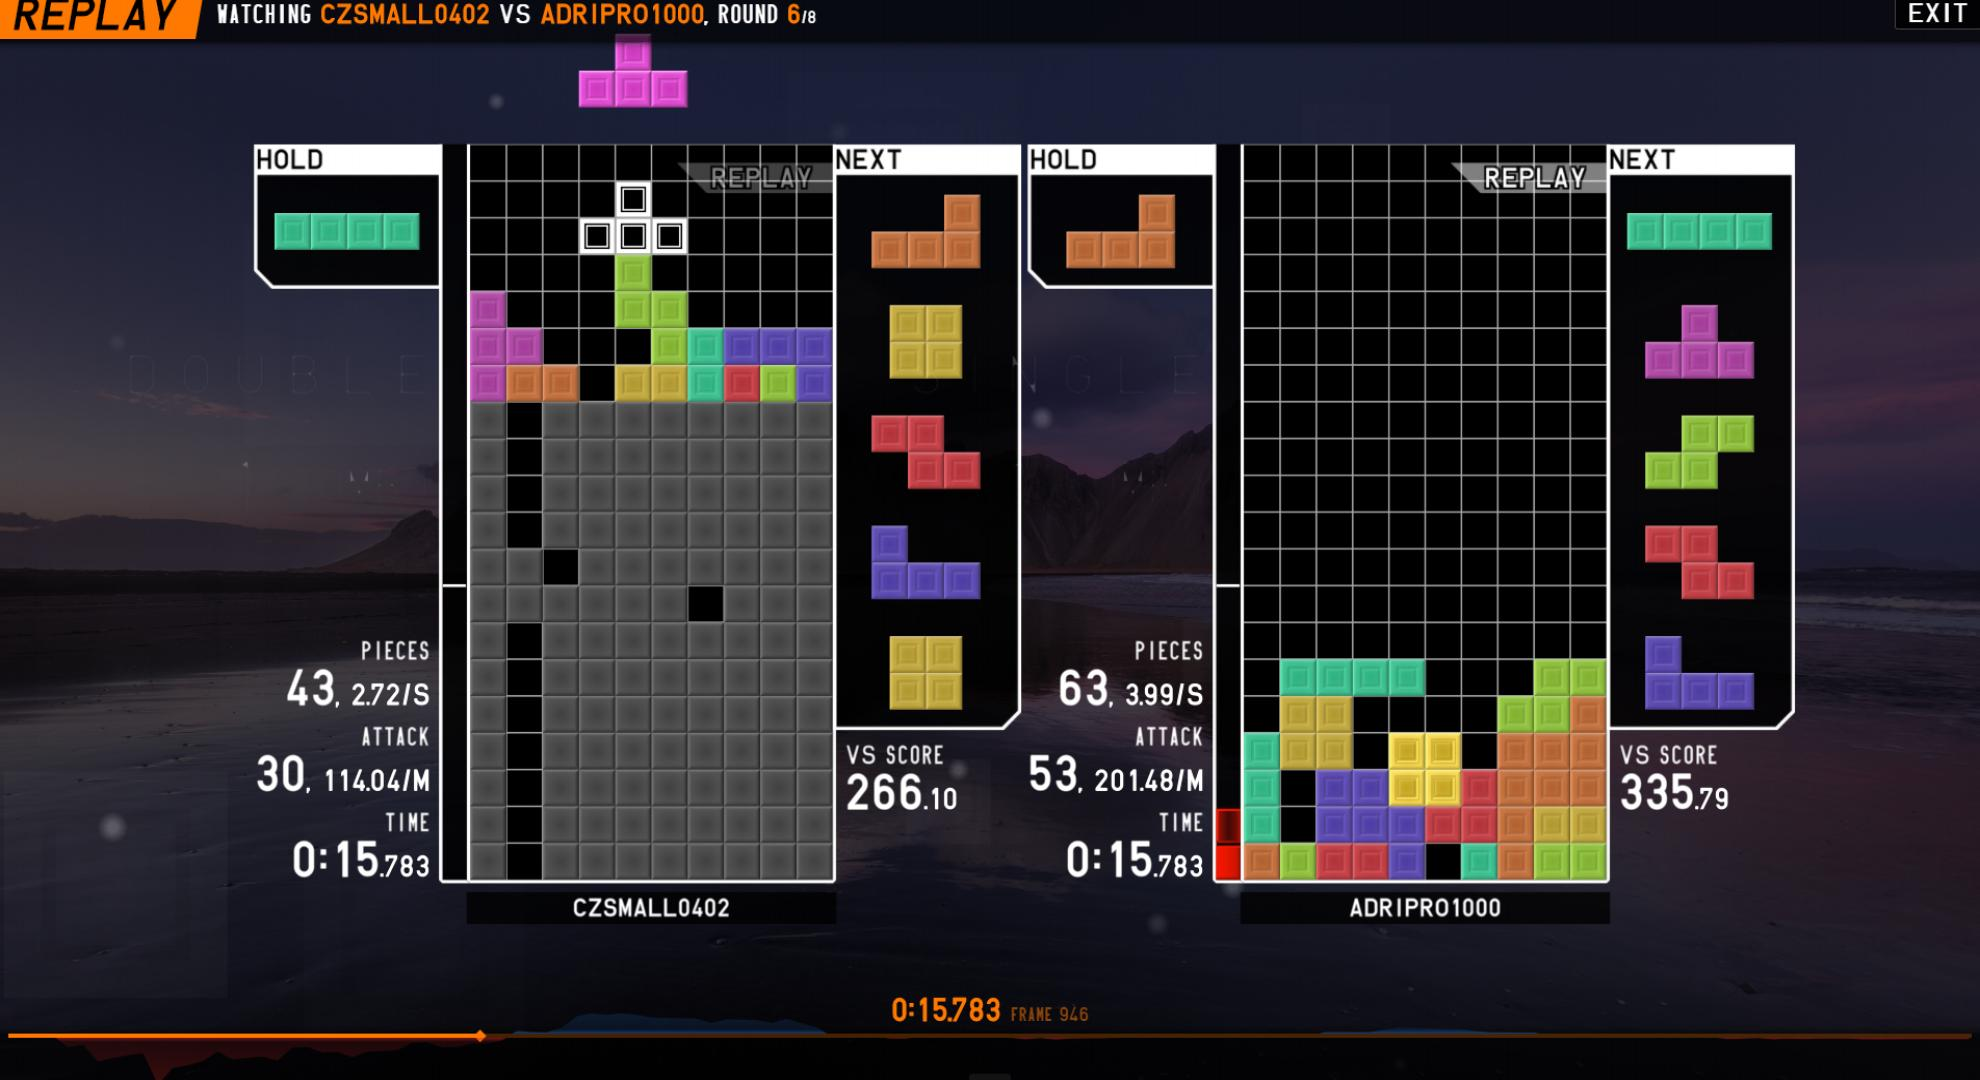tspin: (545, 290, 661, 411)
